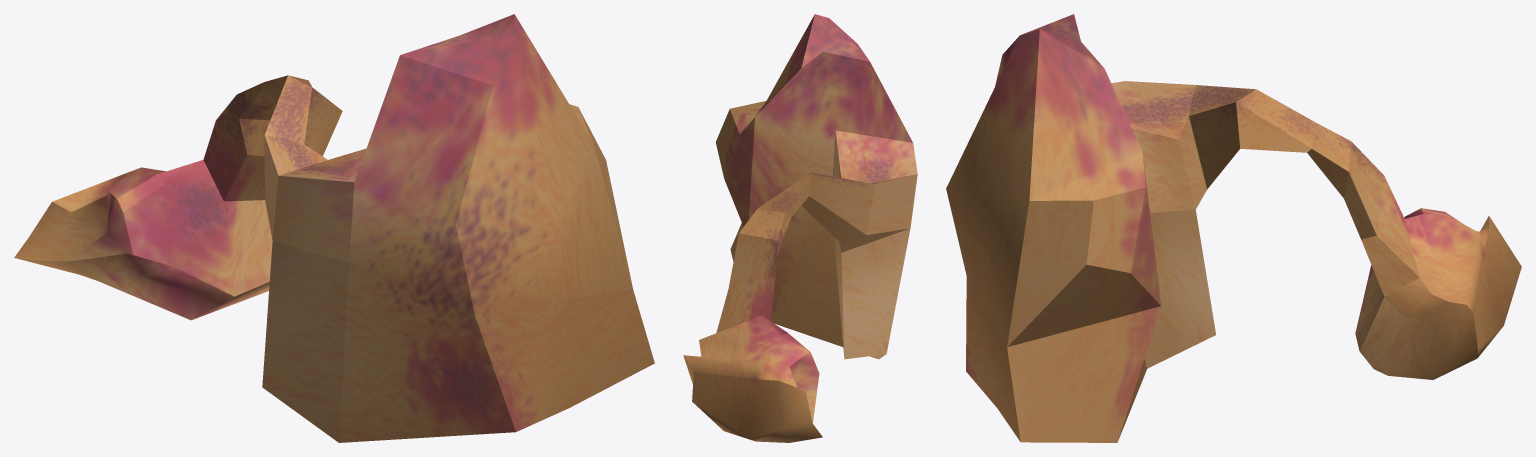
Rendered from Rock_Six.fbx.
The picture shows the model from 3 angles, left to right: view 1: azimuth 30°, elevation 25°; view 2: azimuth 150°, elevation 25°; view 3: azimuth 270°, elevation 25°; orthographic projection. The views are drawn at different scales.
Visible parts, largest first — view 1: pCube7; view 2: pCube7; view 3: pCube7.
Part boxes in pixels (box(x1,y1,x2,y2)): pCube7: box(14, 14, 654, 442); pCube7: box(683, 14, 917, 442); pCube7: box(946, 14, 1521, 442).
Bounding box in the file's own units: 4.46 × 4.71 × 6.09.
Materials: 1 (1 with a texture image).
